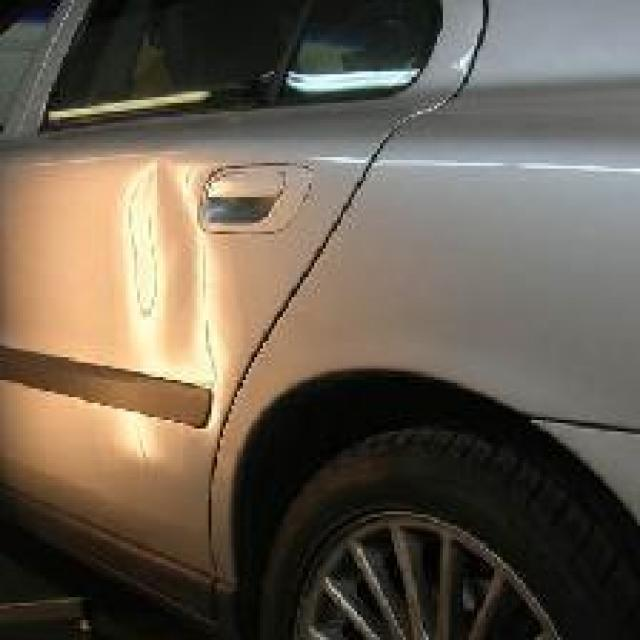damaged: (111, 157, 220, 472)
